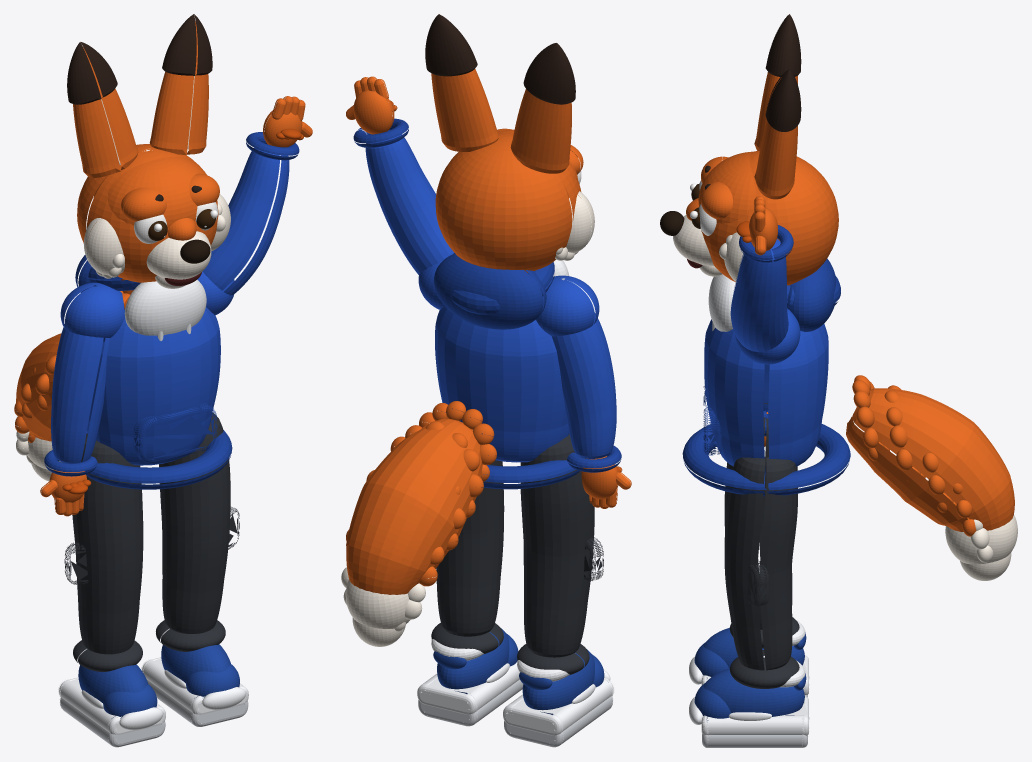
File: fox-character-suavizado.glb
3 renders of one model, left to right at view 1: azimuth 30°, elevation 25°; view 2: azimuth 150°, elevation 25°; view 3: azimuth 270°, elevation 25°, orthographic. The views are drawn at different scales.
Visible parts, largest first — view 1: hoodieBlue, pantsDark, furOrange, hoodieShade, shoeBlue, furCream, shoeWhite, furDark, teeWhite, soleGrey, eyeWhite, nose (+2 smaller); view 2: furOrange, hoodieBlue, pantsDark, hoodieShade, shoeWhite, furCream, shoeBlue, furDark, soleGrey; view 3: furOrange, hoodieBlue, pantsDark, hoodieShade, shoeBlue, furCream, shoeWhite, furDark, soleGrey, teeWhite.
Part boxes in pixels (x1,y1,x2,y2): hoodieBlue: (51,148,289,465); pantsDark: (64,413,239,671); furOrange: (14,21,312,516); hoodieShade: (44,132,299,489); shoeBlue: (78,644,239,718); furCream: (16,76,230,481); shoeWhite: (58,624,248,734); furDark: (67,14,212,201); teeWhite: (124,279,206,335); soleGrey: (60,679,248,747); eyeWhite: (134,202,217,243); nose: (180,239,210,263); furOrange: (346,68,631,594); hoodieBlue: (365,129,616,462); pantsDark: (431,411,603,674); hoodieShade: (353,118,621,489); shoeWhite: (417,639,613,735); furCream: (341,191,594,646); shoeBlue: (433,628,604,714); furDark: (425,14,577,156); soleGrey: (418,679,612,747); furOrange: (686,72,1014,536); hoodieBlue: (704,239,828,473); pantsDark: (724,403,799,688); hoodieShade: (682,225,850,496); shoeBlue: (694,627,806,720); furCream: (673,215,1017,580); shoeWhite: (689,620,809,736); furDark: (705,14,801,189); soleGrey: (702,688,807,747); teeWhite: (708,274,735,331).
Bounding box in the file's own units: 0.8701 × 2.06 × 0.9865.
